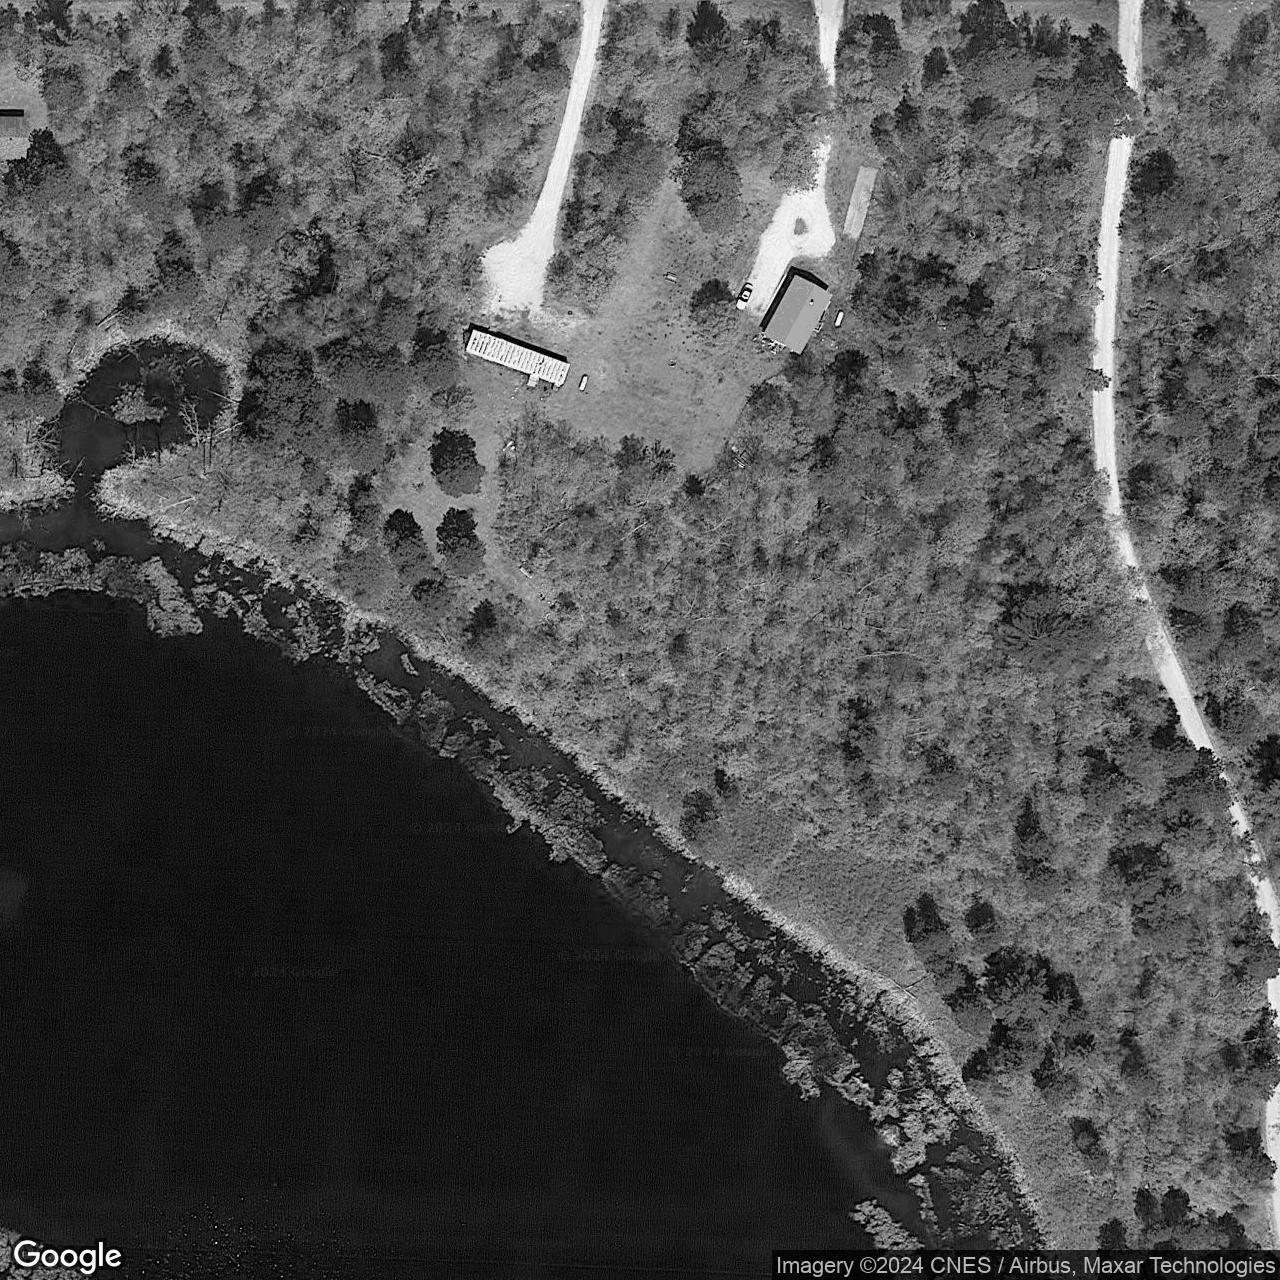House: (763, 273, 833, 356), (0, 115, 27, 161)
Propane: (831, 307, 846, 331), (577, 373, 591, 393)
Trailer: (463, 328, 571, 389)
